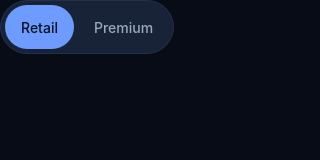
SegmentSwitch (TH2, TH3) › switches the segment on <html> without changing the theme
The width and height of the screenshot is (320, 160).
Click the radio button labelled "Premium": click(124, 27) left=94, top=18, right=153, bottom=36
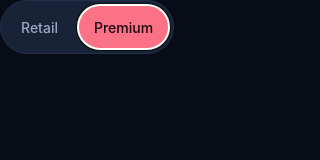
Check: the radio button labelled "Premium" is checked, box left=78, top=5, right=169, bottom=49
Check: the radio button labelled "Retail" is not checked, box left=21, top=18, right=58, bottom=36
